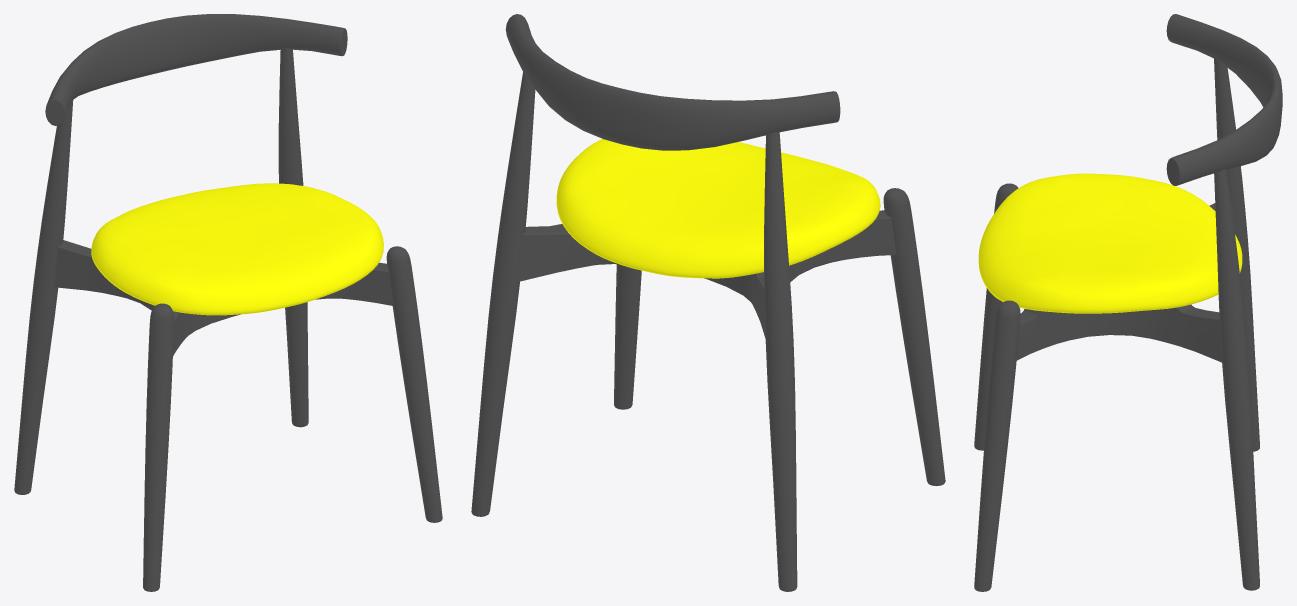
The model's file is SM_Chair.glb.
The picture shows the model from 3 angles, left to right: view 1: azimuth 30°, elevation 25°; view 2: azimuth 150°, elevation 25°; view 3: azimuth 270°, elevation 25°; orthographic projection. The views are drawn at different scales.
Visible parts, largest first — view 1: SM_Chair; view 2: SM_Chair; view 3: SM_Chair.
Part boxes in pixels (x1,y1,x2,y2): SM_Chair: (14, 14, 442, 591); SM_Chair: (471, 14, 945, 591); SM_Chair: (974, 14, 1282, 591).
Size of the model in its own units: 0.5369 by 0.7255 by 0.4643.
Materials: 2 (1 with a texture image).
